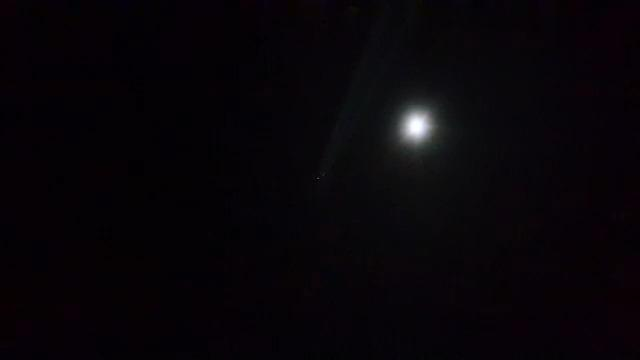Plane: (309, 120, 345, 185)
